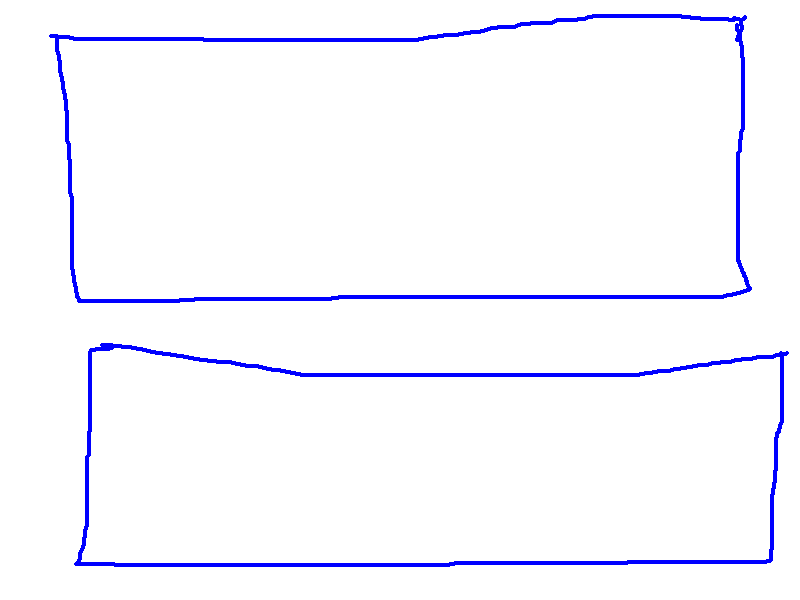rect: (41, 7, 756, 313), (68, 337, 789, 574)
